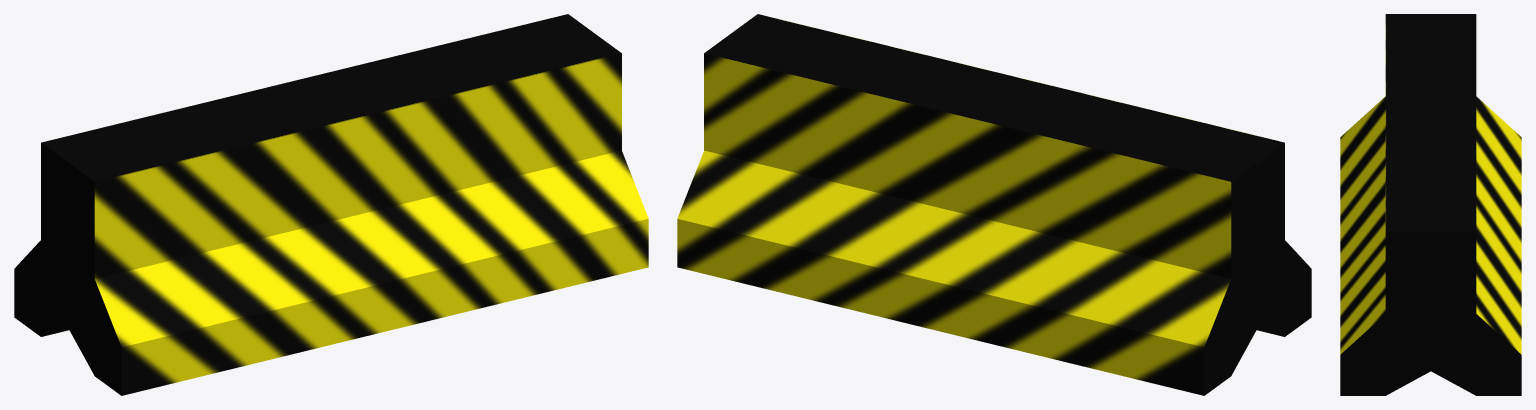
File: hybrid_barricade.fbx
3 views of the same model, side by side, from view 1: azimuth 30°, elevation 25°; view 2: azimuth 150°, elevation 25°; view 3: azimuth 270°, elevation 25° (orthographic). The views are drawn at different scales.
Parts seen in each view (by area): view 1: Plane.001; view 2: Plane.001; view 3: Plane.001.
Boxes of the visible parts, <box> form: Plane.001: <box>14,14,648,395</box>; Plane.001: <box>677,14,1311,395</box>; Plane.001: <box>1340,14,1521,395</box>.
Bounding box in the file's own units: 567 × 200 × 200.
1 material, 1 textured.
